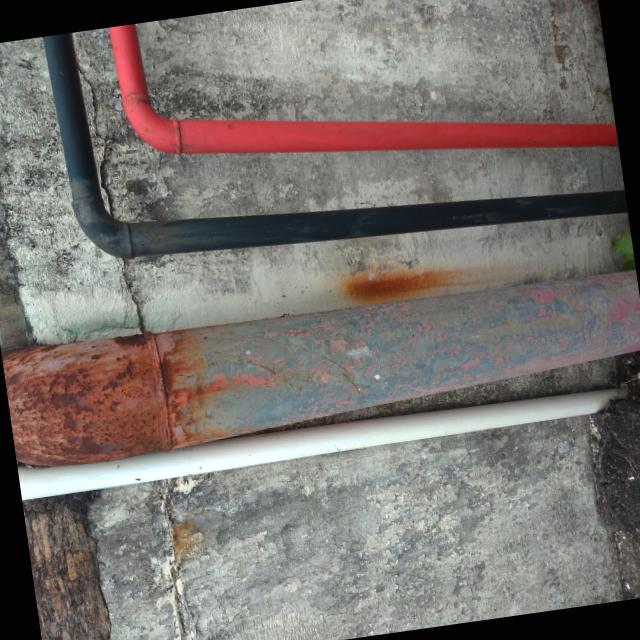gas: (44, 39, 628, 259), (22, 273, 640, 469), (107, 24, 618, 154), (35, 394, 601, 498)
